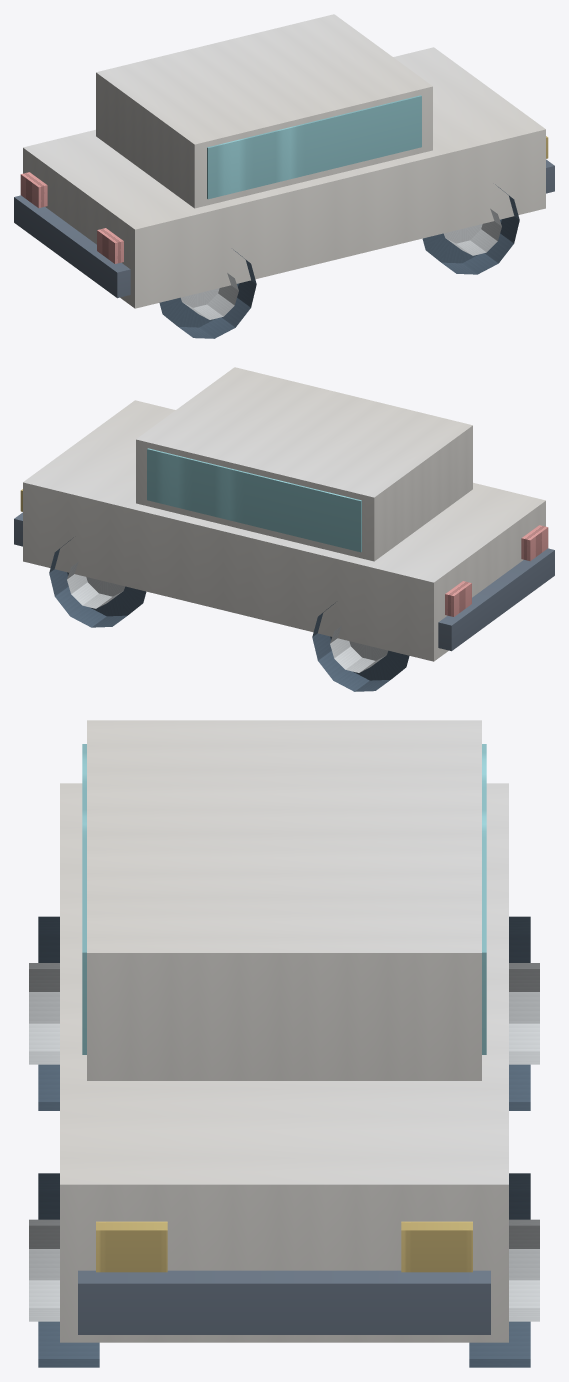
The model's file is compact_car.glb.
The picture shows the model from 3 angles, top to bottom: view 1: azimuth 30°, elevation 25°; view 2: azimuth 150°, elevation 25°; view 3: azimuth 270°, elevation 25°; orthographic projection. The views are drawn at different scales.
Parts seen in each view (by area): view 1: compact_car; view 2: compact_car; view 3: compact_car.
Part boxes in pixels (<box>): compact_car: <box>14,14,554,338</box>; compact_car: <box>14,367,554,691</box>; compact_car: <box>29,720,539,1367</box>.
Size of the model in its own units: 3.94 by 1.61 by 1.99.
1 material, 1 textured.
